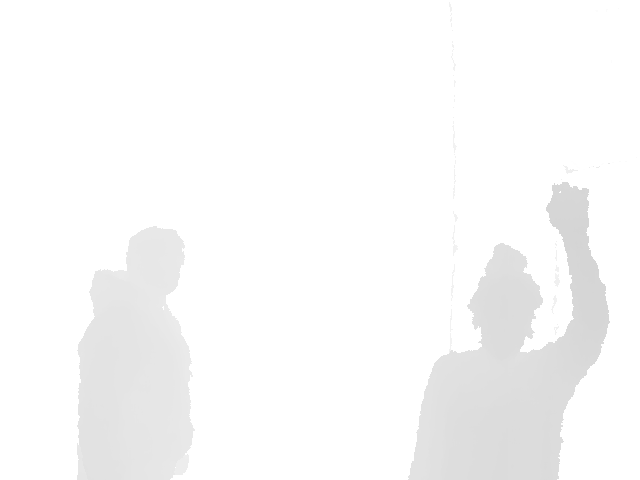hand: (545, 181, 590, 235)
head: (467, 243, 544, 352), (124, 225, 184, 301)
person: (403, 181, 611, 480), (75, 225, 196, 480)
